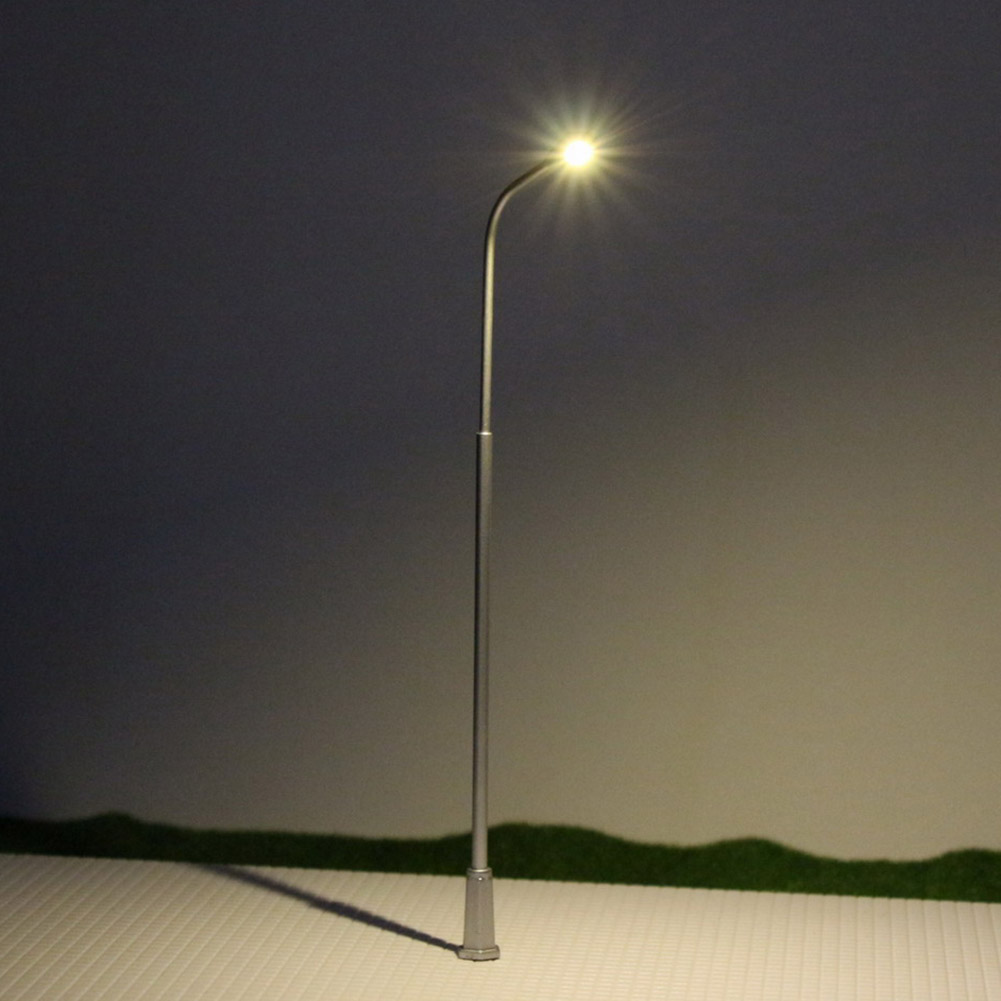Lamp: (460, 103, 612, 973)
